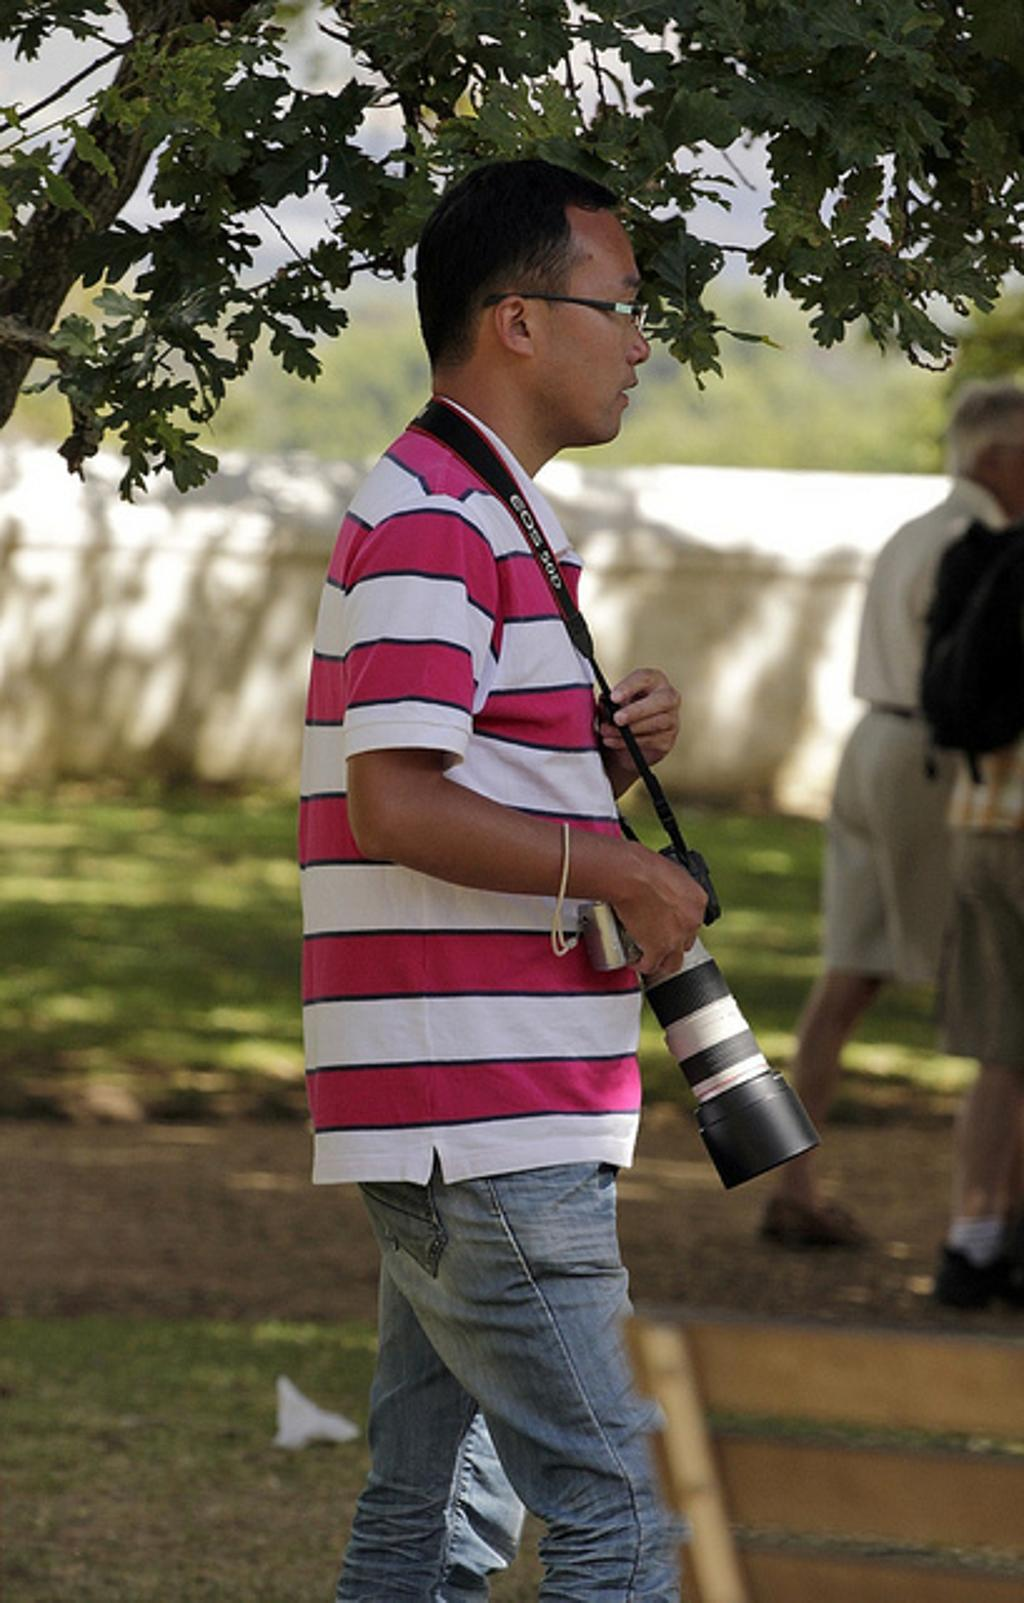face: (514, 219, 658, 451)
